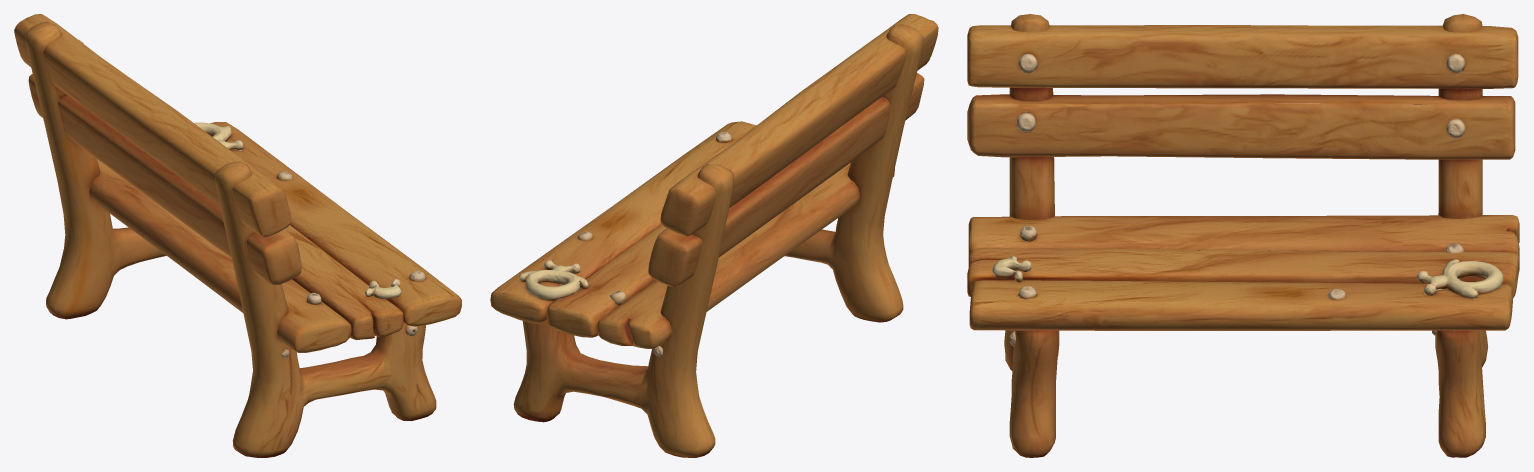
File: bench.glb
3 views of the same model, side by side, from view 1: azimuth 30°, elevation 25°; view 2: azimuth 150°, elevation 25°; view 3: azimuth 270°, elevation 25° (orthographic). The views are drawn at different scales.
Visible parts, largest first — view 1: tripo_node_8e0fab83-19a2-475d-849f-03f4ad54bf0b; view 2: tripo_node_8e0fab83-19a2-475d-849f-03f4ad54bf0b; view 3: tripo_node_8e0fab83-19a2-475d-849f-03f4ad54bf0b.
Boxes of the visible parts, x1=… form: tripo_node_8e0fab83-19a2-475d-849f-03f4ad54bf0b: x1=14, y1=14, x2=461, y2=457; tripo_node_8e0fab83-19a2-475d-849f-03f4ad54bf0b: x1=490, y1=14, x2=938, y2=457; tripo_node_8e0fab83-19a2-475d-849f-03f4ad54bf0b: x1=967, y1=14, x2=1519, y2=457.
Bounding box in the file's own units: 0.5293 × 0.6699 × 0.998.
1 material, 1 textured.
